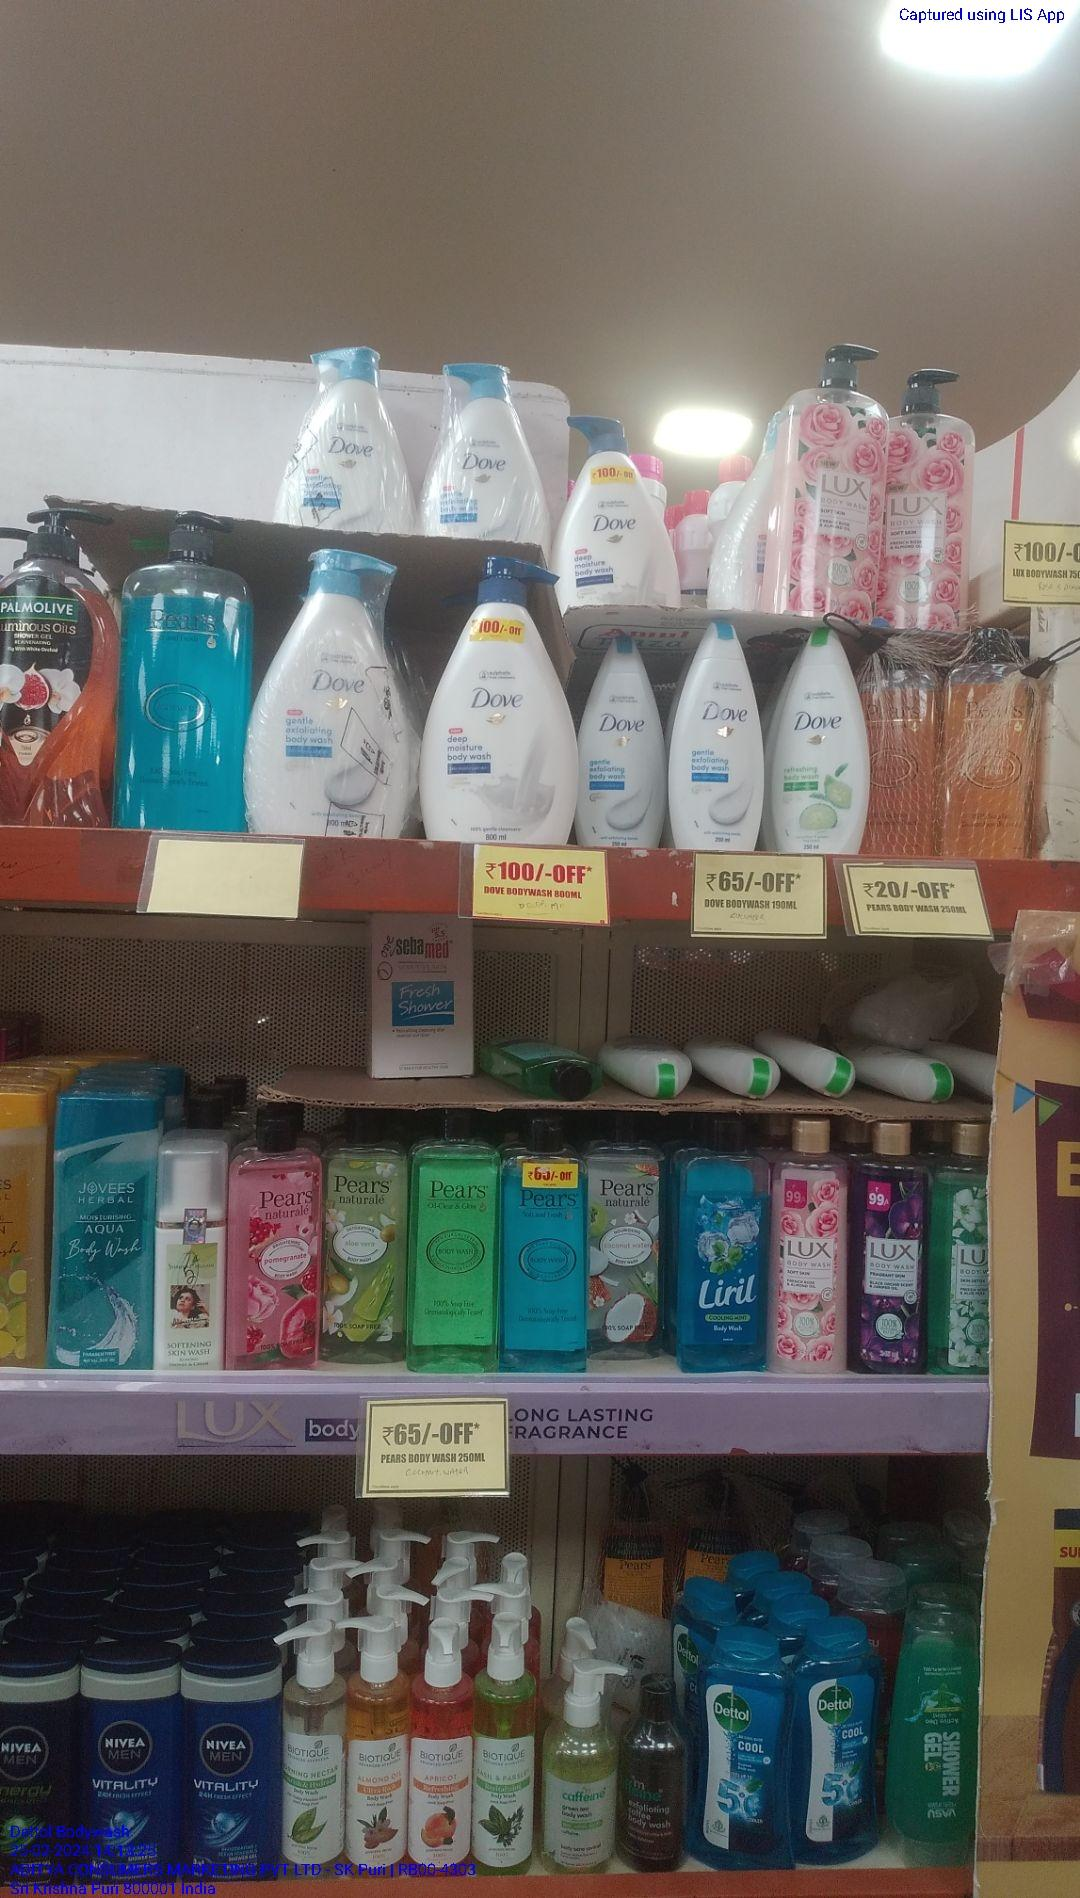Dettol_Bodywash_Cool: (698, 1632, 793, 1869), (801, 1629, 880, 1863)
Dove_Gentle_Exfoliating_Body_Wash_250ML: (672, 620, 759, 850), (583, 637, 661, 847)
Dove_Refreshing_Body_Wash_250ML: (777, 630, 869, 854)
Liril_Cooling_Mint_Body_Wash_250ML: (682, 1113, 771, 1378)
Lux_Black_Orchid_Scent_and_Juniper_Oil_Body_Wash_245ML: (858, 1118, 930, 1374)
Lux_Body_Wash_Skin_Detox_Freesia_Scent_and_Alove_Vera_245ML: (939, 1120, 986, 1379)
Pears_Naturale_Aloe_Vera_Body_Wash_250ML: (326, 1108, 406, 1362)
Pears_Pure_Glycerin_and_Lemon_Flower_Extracts_Body_Wash_250ML: (410, 1109, 500, 1371)
Pears_Pure_Glycerin_and_Mint_Extracts_Body_Wash_250ML: (503, 1109, 591, 1370)
